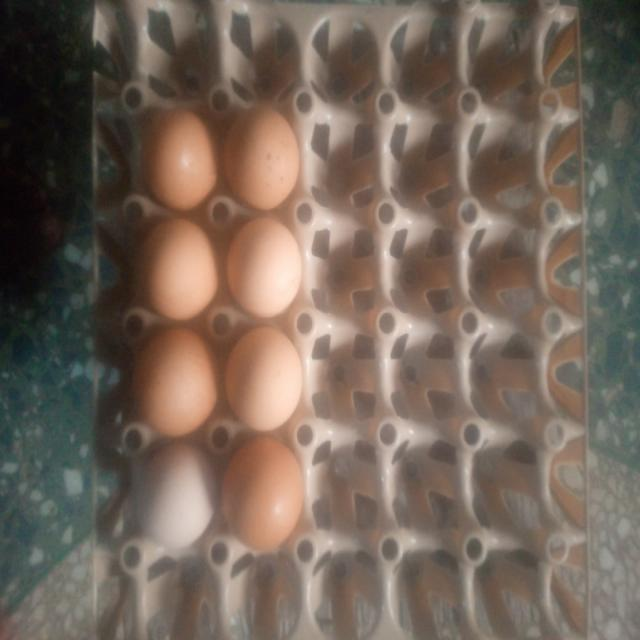Eggs: (134, 441, 218, 556), (136, 219, 225, 321), (138, 325, 220, 435), (222, 100, 300, 213), (136, 101, 217, 209), (227, 326, 306, 432), (228, 218, 306, 322), (226, 443, 304, 546)
